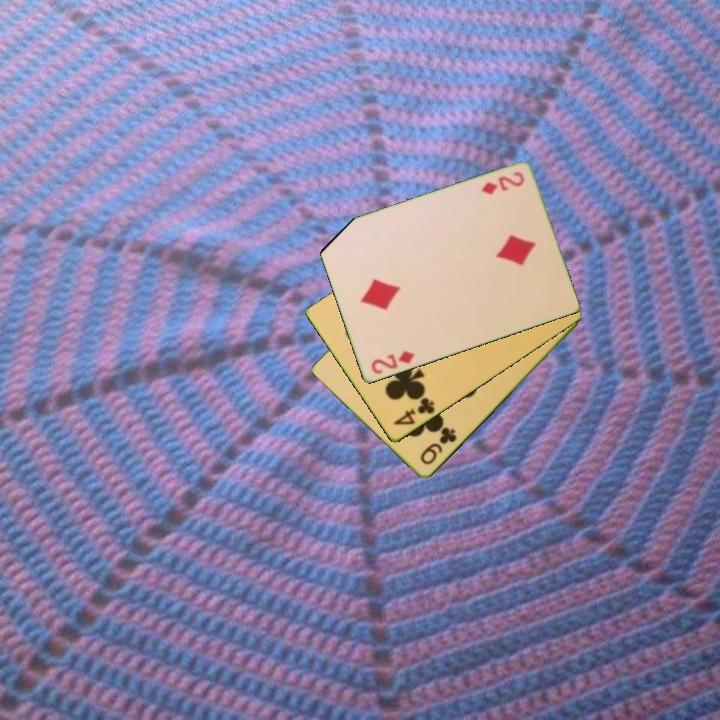2d: (478, 168, 527, 198), (367, 348, 417, 377)
4c: (390, 394, 438, 429)
9c: (417, 424, 460, 468)
